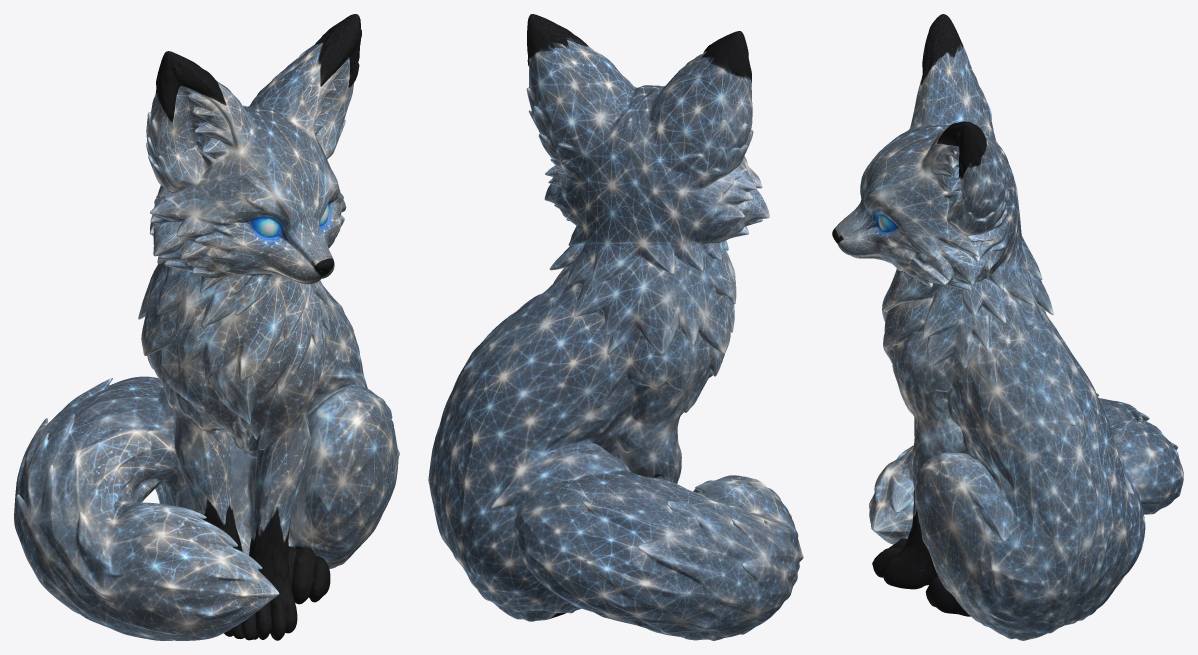
The model's file is pet-fox.glb.
3 renders of one model, left to right at view 1: azimuth 30°, elevation 25°; view 2: azimuth 150°, elevation 25°; view 3: azimuth 270°, elevation 25°, orthographic. The views are drawn at different scales.
Visible parts, largest first — view 1: Mesh_0.001; view 2: Mesh_0.001; view 3: Mesh_0.001.
Boxes of the visible parts, x1=… form: Mesh_0.001: x1=14, y1=14, x2=399, y2=640; Mesh_0.001: x1=428, y1=14, x2=803, y2=640; Mesh_0.001: x1=832, y1=14, x2=1183, y2=640.
Size of the model in its own units: 0.093 by 0.15 by 0.0893.
Materials: 1 (1 with a texture image).
